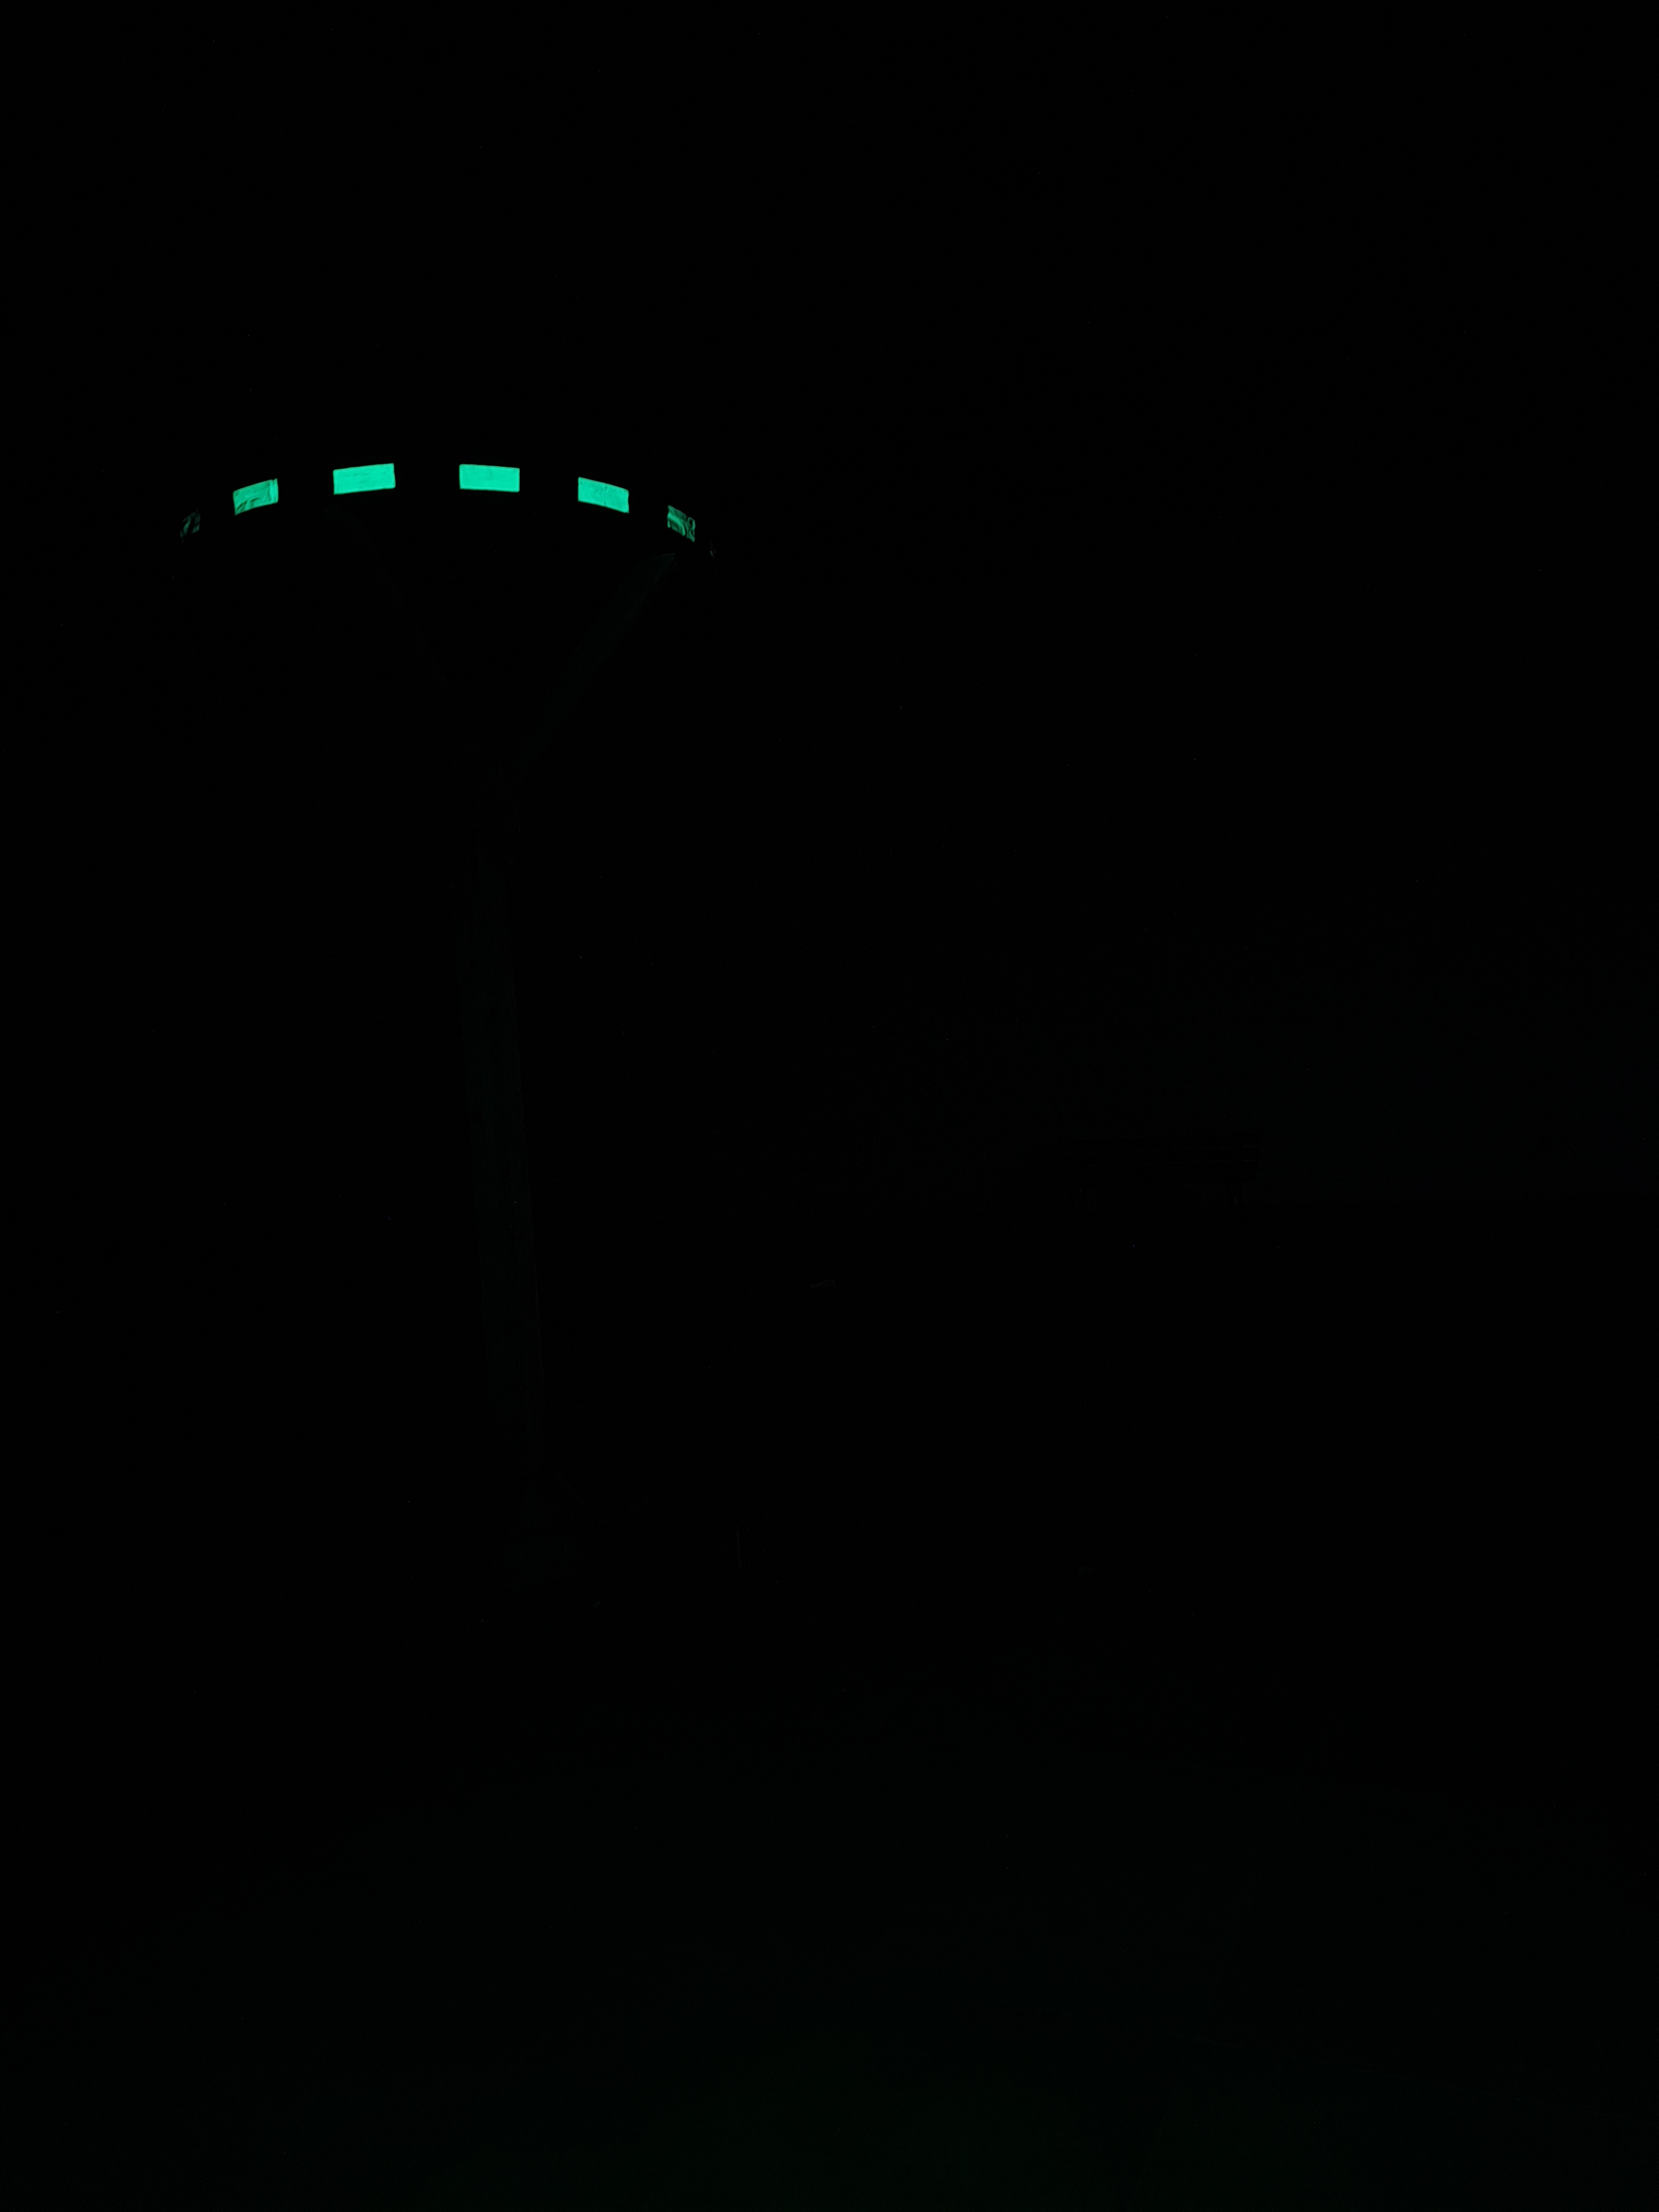hoop: (166, 453, 706, 542)
